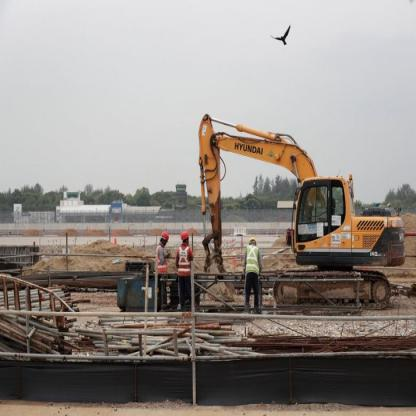helmet: (180, 231, 190, 239), (161, 230, 169, 239), (249, 237, 256, 244)
person: (156, 227, 170, 310), (175, 232, 191, 304), (245, 236, 260, 310)
vest: (176, 246, 191, 272), (155, 246, 168, 272), (247, 247, 260, 272)
